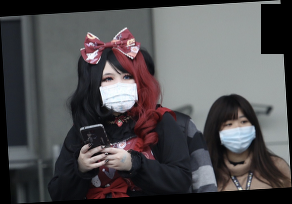with_mask: (98, 70, 140, 114), (217, 114, 256, 156)
